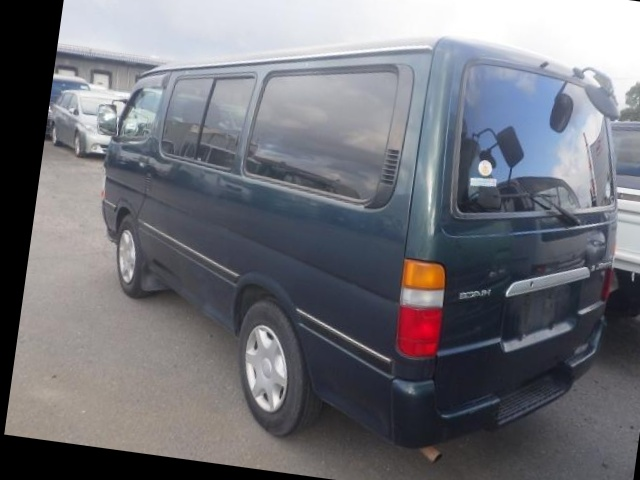van: (73, 0, 626, 464)
